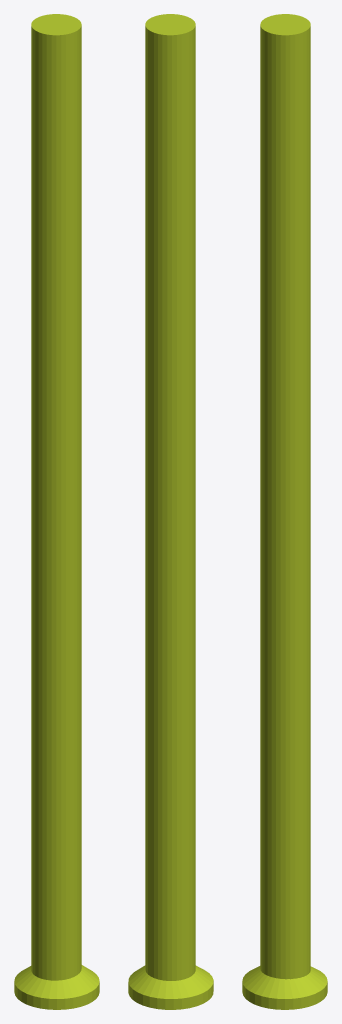
The model's file is Ramie3.obj.
3 renders of one model, left to right at view 1: azimuth 90°, elevation 25°; view 2: azimuth 150°, elevation 25°; view 3: azimuth 270°, elevation 25°, orthographic.
Parts seen in each view (by area): view 1: Cylinder.001; view 2: Cylinder.001; view 3: Cylinder.001.
Part boxes in pixels (x1=…): Cylinder.001: x1=14, y1=14, x2=99, y2=1009; Cylinder.001: x1=128, y1=14, x2=213, y2=1009; Cylinder.001: x1=242, y1=14, x2=327, y2=1009.
Size of the model in its own units: 0.6048 by 7.57 by 0.6048.
